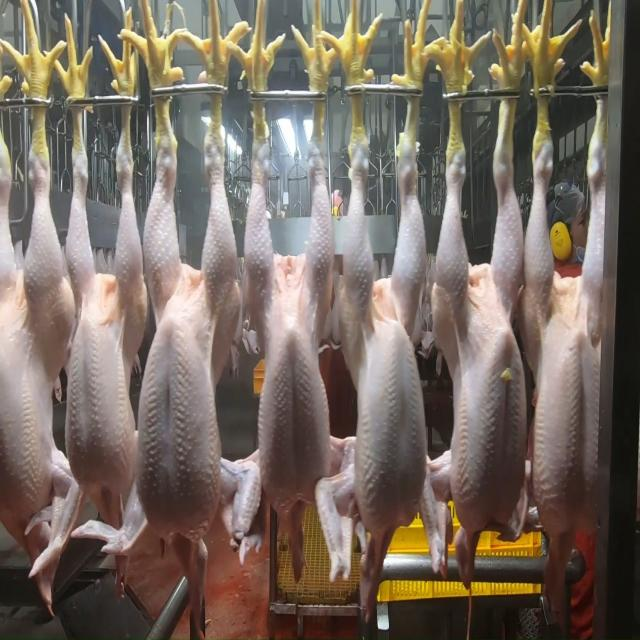chicken: (426, 130, 529, 534), (138, 124, 234, 530), (339, 149, 439, 524), (241, 140, 336, 498), (527, 144, 608, 542), (68, 152, 145, 509), (0, 137, 62, 536)
